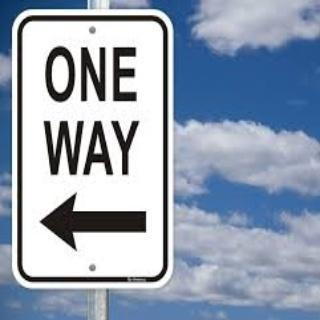sign_oneway_left: (12, 15, 165, 285)
